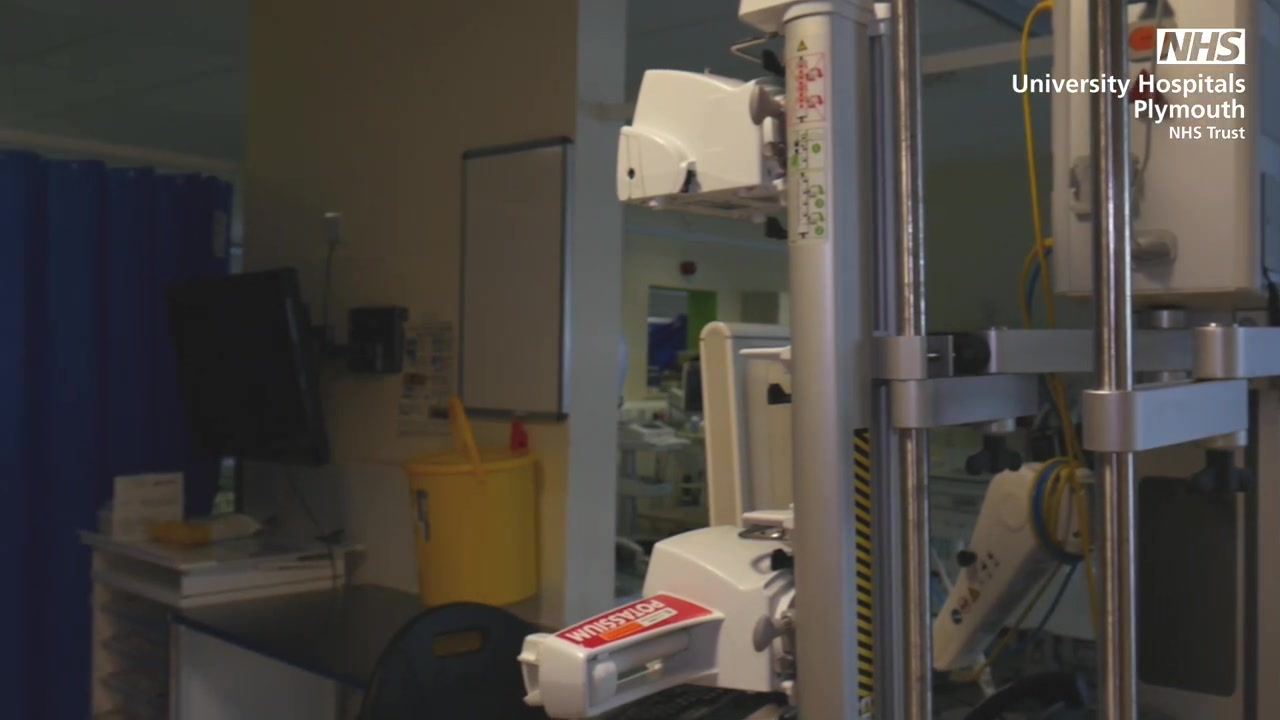bedside_monitor: (165, 269, 332, 468)
chair: (351, 599, 557, 720)
countertop: (181, 578, 551, 686)
curtain: (1, 147, 232, 720)
drawer: (81, 513, 342, 719)
waste_bin: (403, 436, 542, 602)
